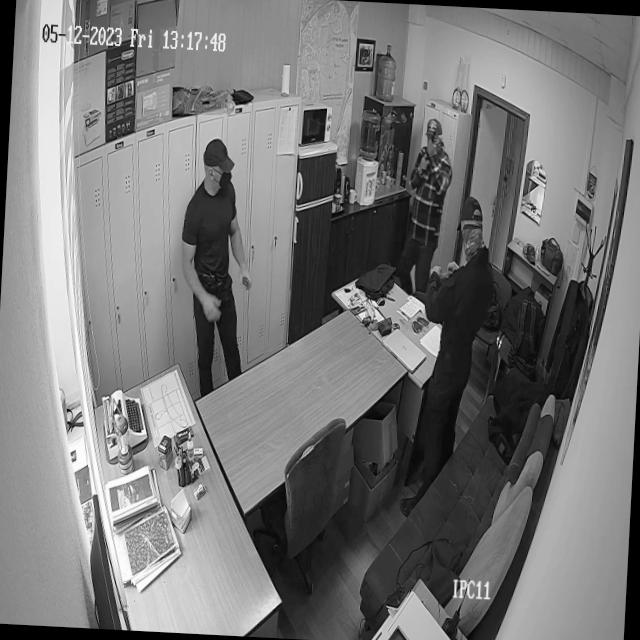gun: (421, 132, 436, 176)
person: (398, 193, 500, 524), (172, 135, 260, 403)
person with a gun: (399, 116, 456, 297)
